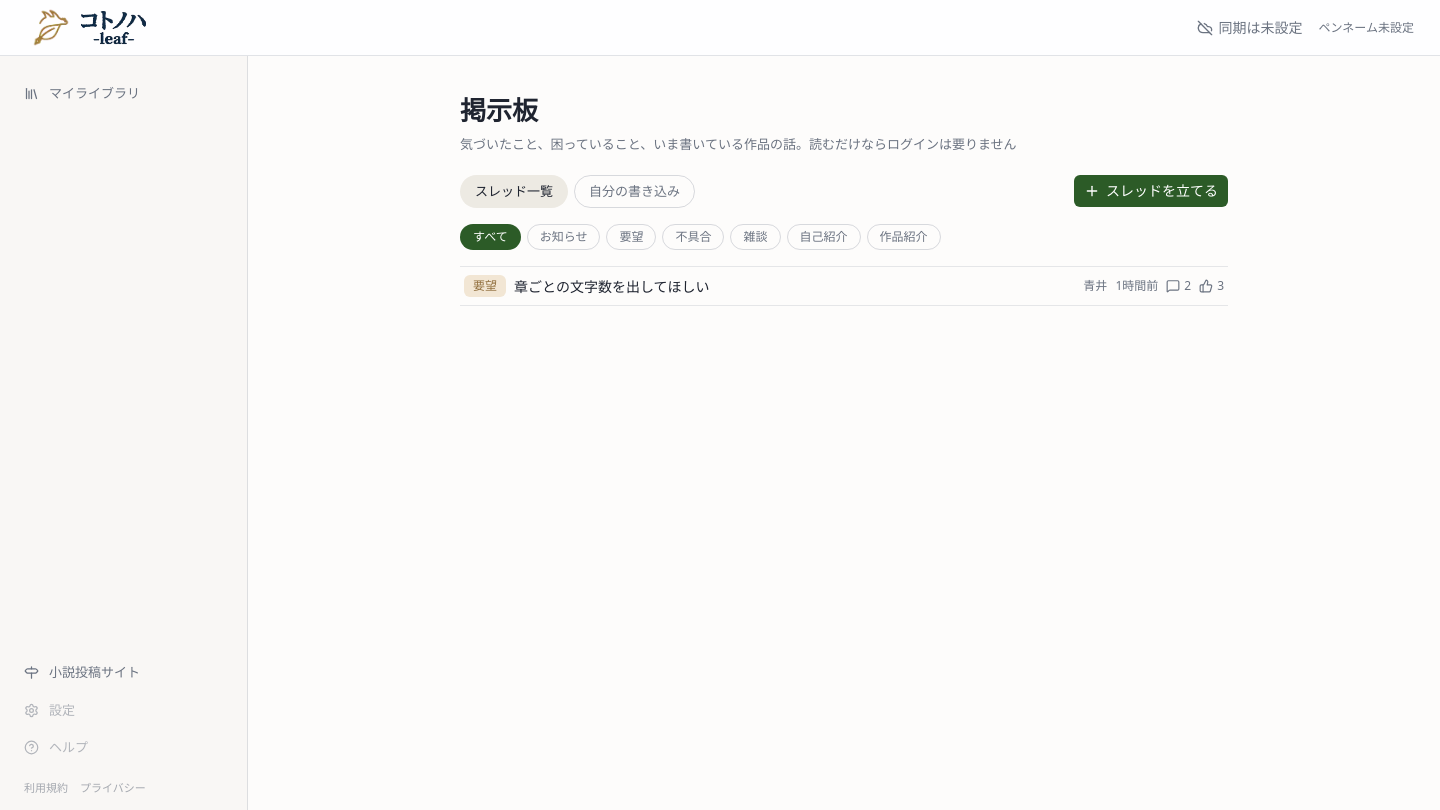
Test: BoardPage（掲示板の一覧） › 表示名を決めたら、そのままスレ立ての画面へ進む
Expected: the heading "章ごとの文字数を出してほしい" is shown, [514,276,710,296]
Click the button "スレッドを立てる": coordinates (1151, 191) [1074,175,1228,207]
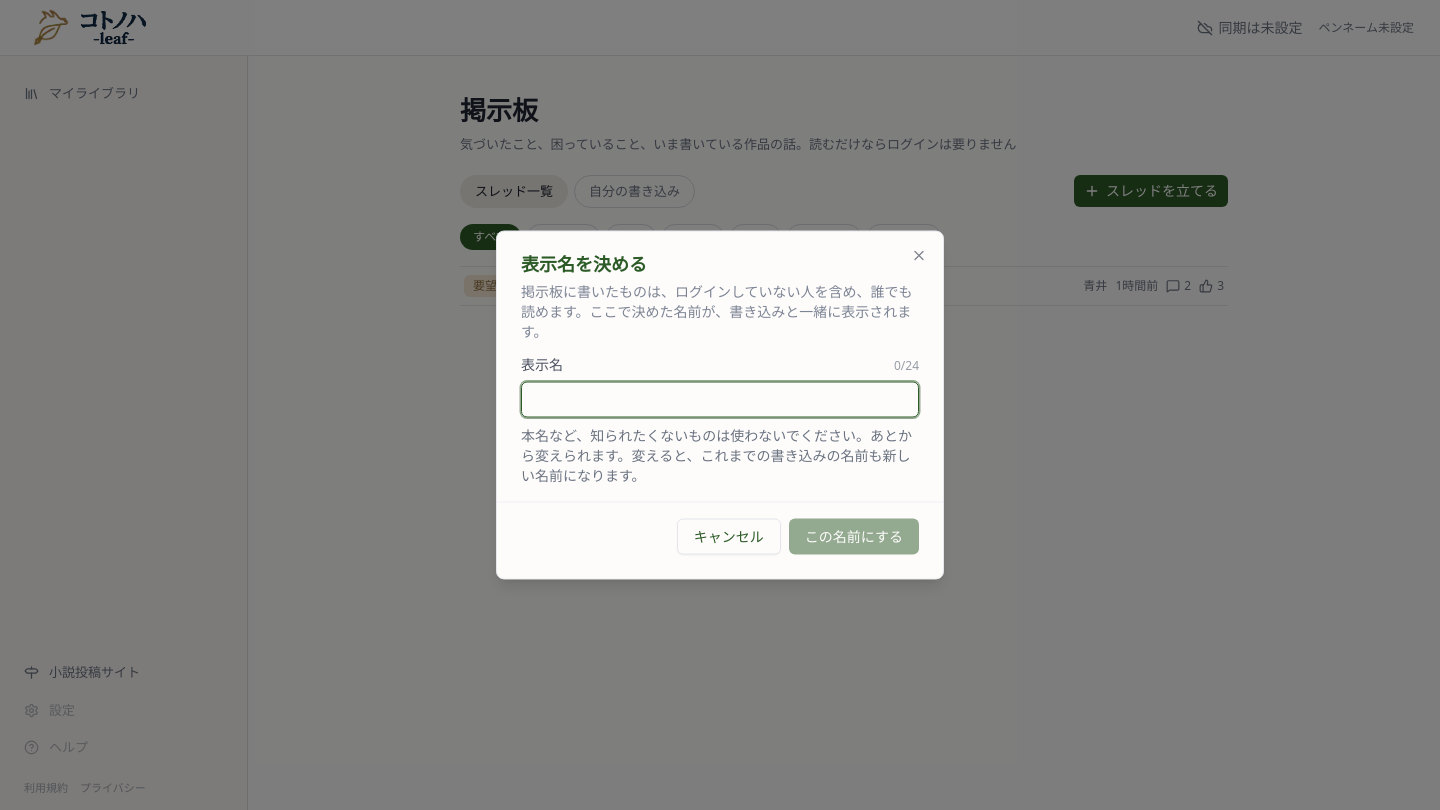
In the field labelled "表示名": coordinates (720, 400) [521,382,919,418], type "あおい"
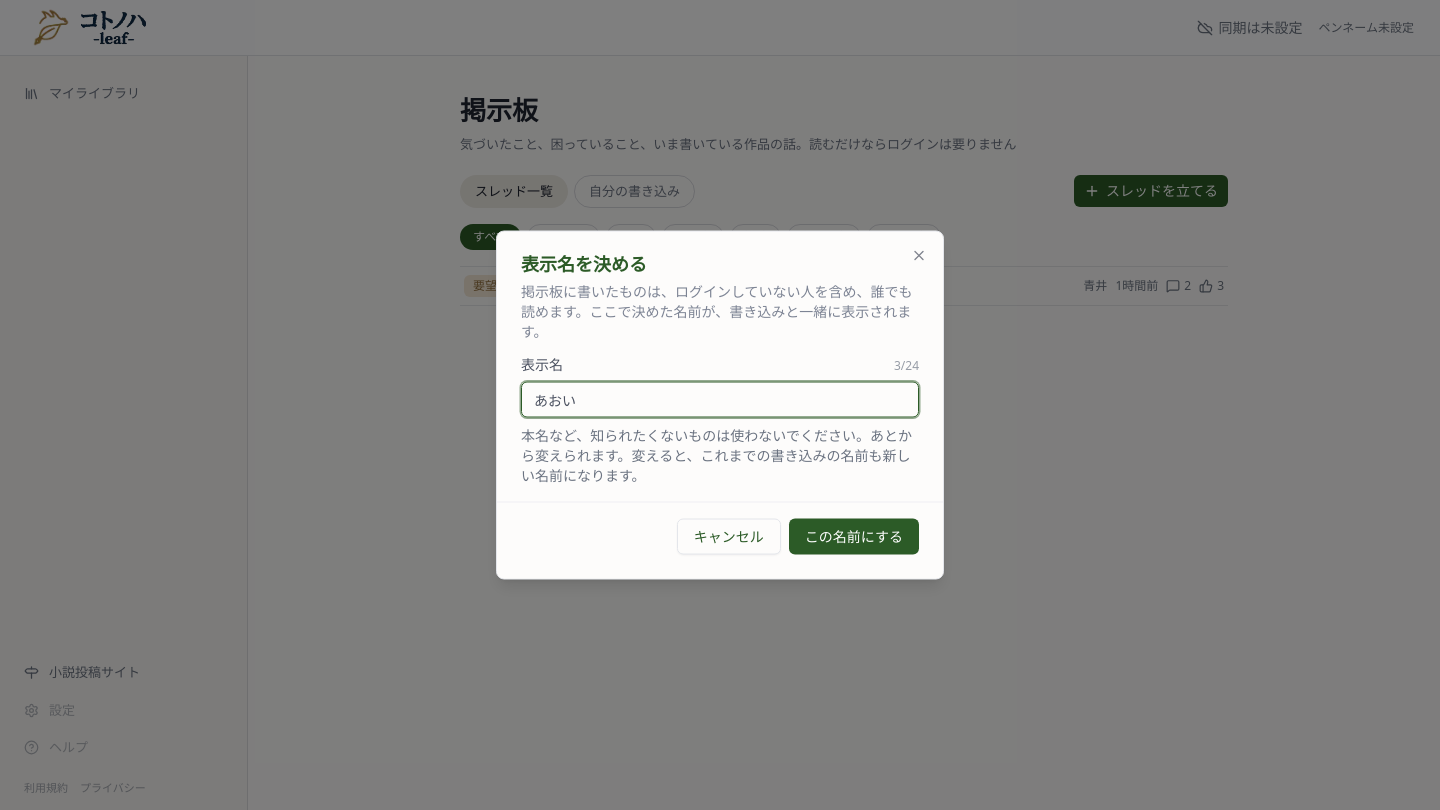
Click the button "この名前にする": coordinates (854, 536) [789,518,919,554]
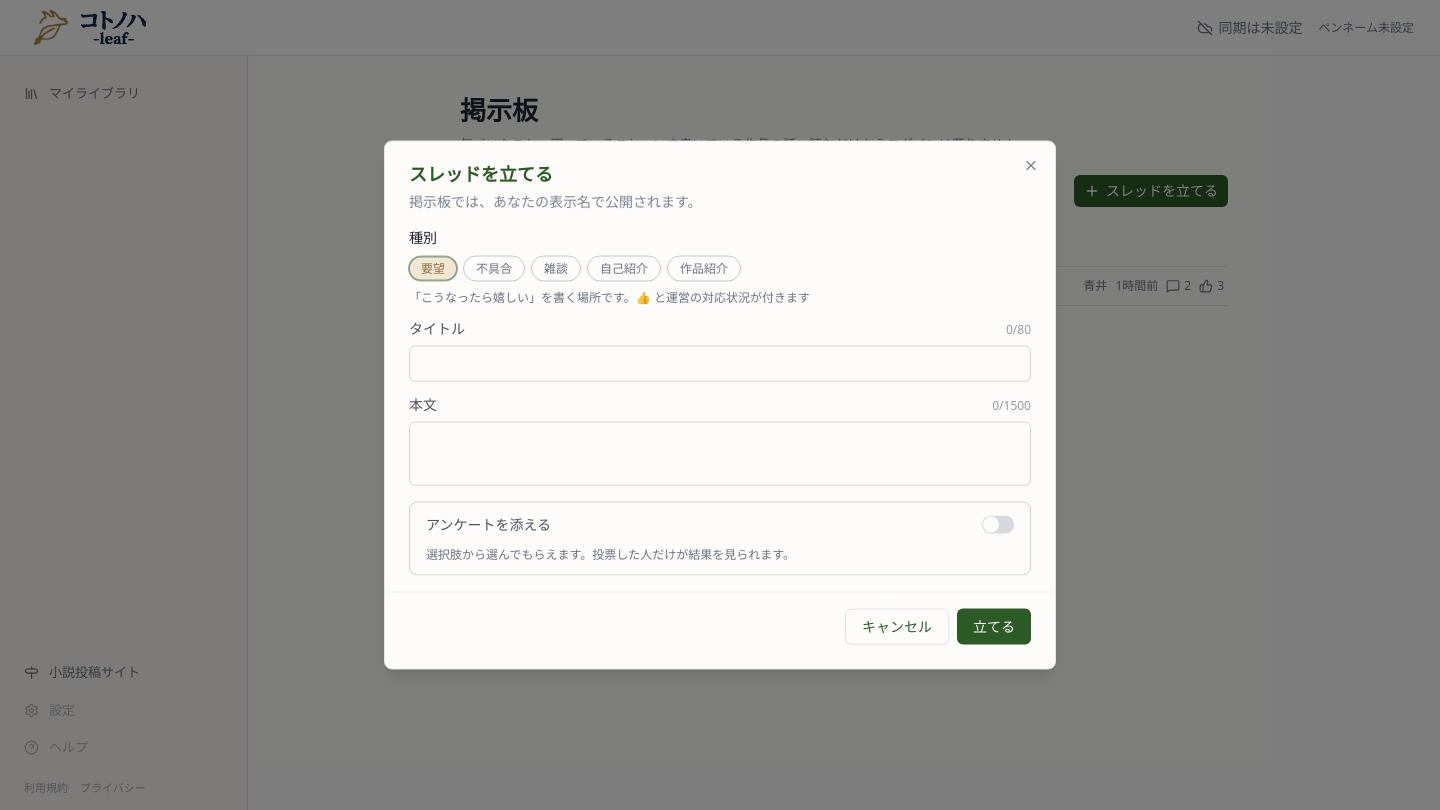
Now the text "掲示板では、あなたの表示名で公開されます。" is shown, box [409,192,702,210]
